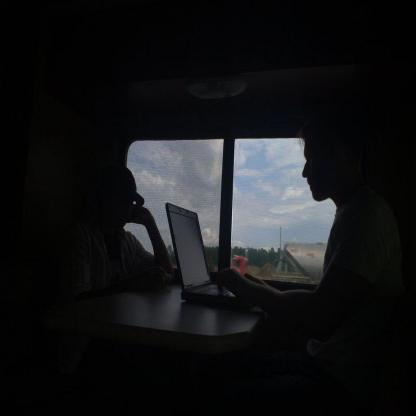board: (164, 202, 233, 308)
